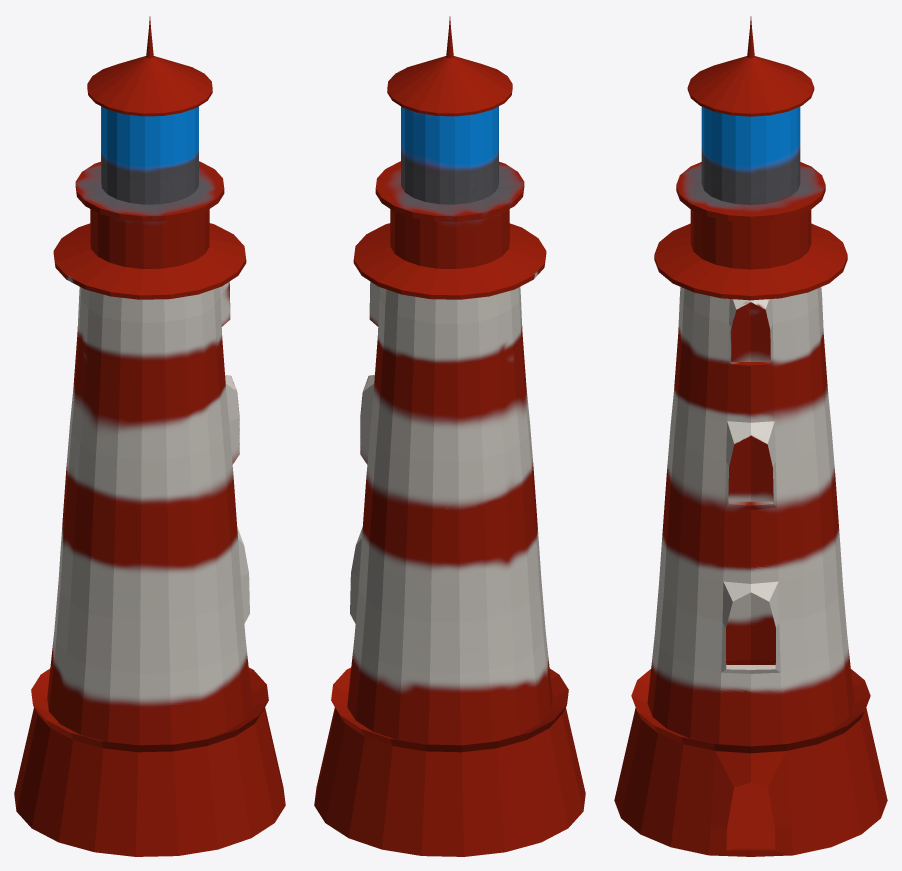
The model's file is faro.obj.
3 renders of one model, left to right at view 1: azimuth 30°, elevation 25°; view 2: azimuth 150°, elevation 25°; view 3: azimuth 270°, elevation 25°, orthographic.
Parts seen in each view (by area): view 1: pCylinder9; view 2: pCylinder9; view 3: pCylinder9.
Part boxes in pixels (x1,y1,x2,y2): pCylinder9: (14, 16, 285, 856); pCylinder9: (314, 16, 585, 856); pCylinder9: (614, 16, 887, 856).
Size of the model in its own units: 82.83 by 266 by 83.78.
